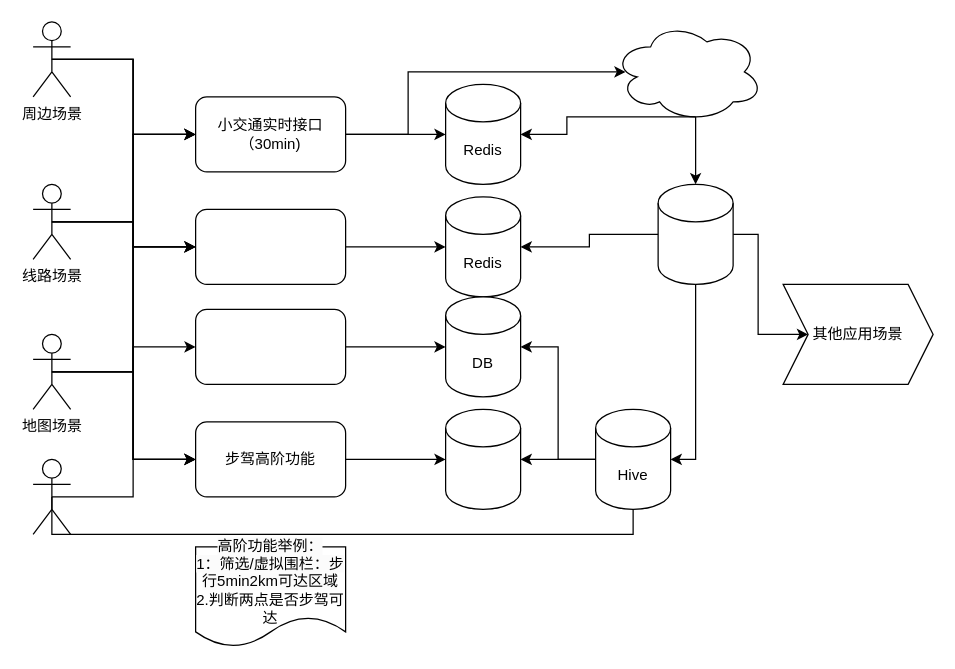
This 955x669 diagram has some shape labels left out. Each missing label, with the box of its shape:
ES: (444, 408, 521, 509)
MQ: (657, 183, 733, 284)
图商驾步接口: (612, 21, 763, 122)
小交通准实时接口 (24h): (194, 208, 346, 284)
小交通离线场景 (7d+): (194, 308, 346, 384)
离线分析: (32, 458, 71, 534)
